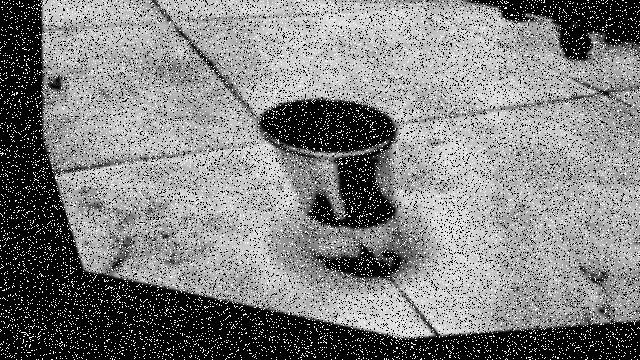pot: (257, 97, 396, 226)
